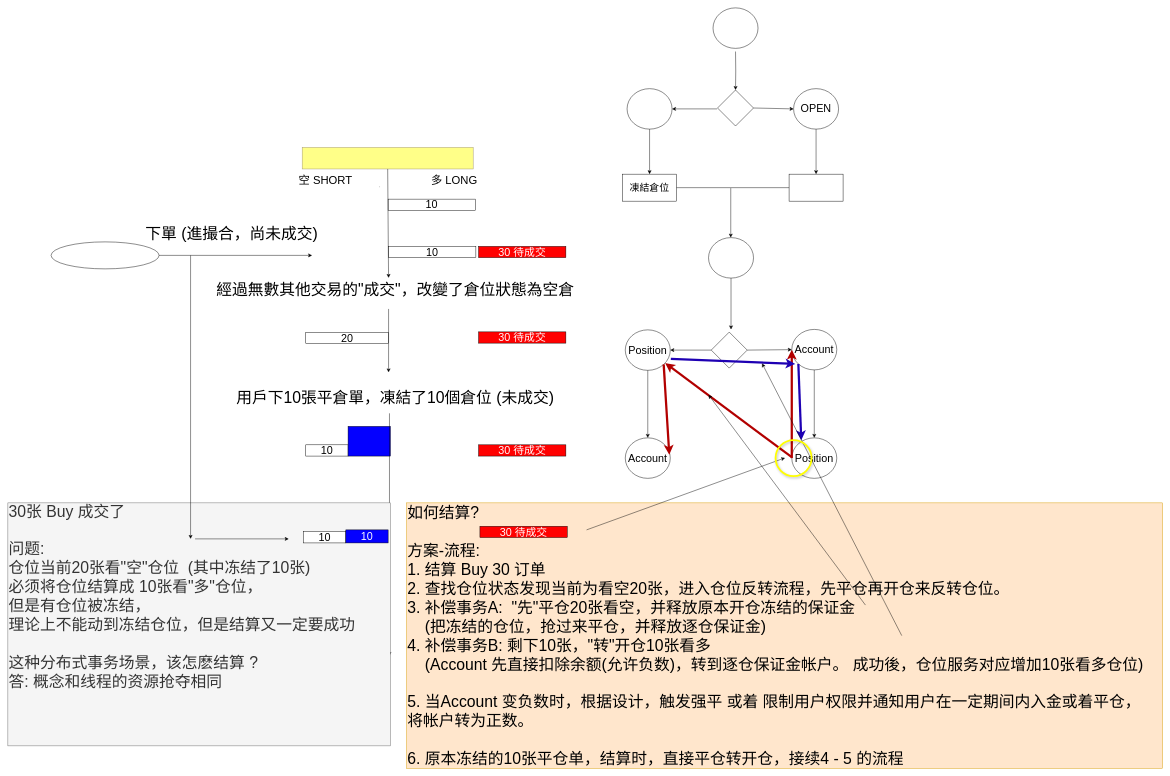
Some shapes in this 1170 by 776 pixel diagram are drawn without their labels. The centre of each missing label's shape, as x and y in pixels:
10 待成交: (x=369, y=441)
Buy 30張: (x=105, y=255)
CLOSE: (x=649, y=108)
Match: (x=731, y=257)
Order: (x=735, y=27)
倉位狀態: (x=387, y=158)
凍結保證金: (x=816, y=187)
